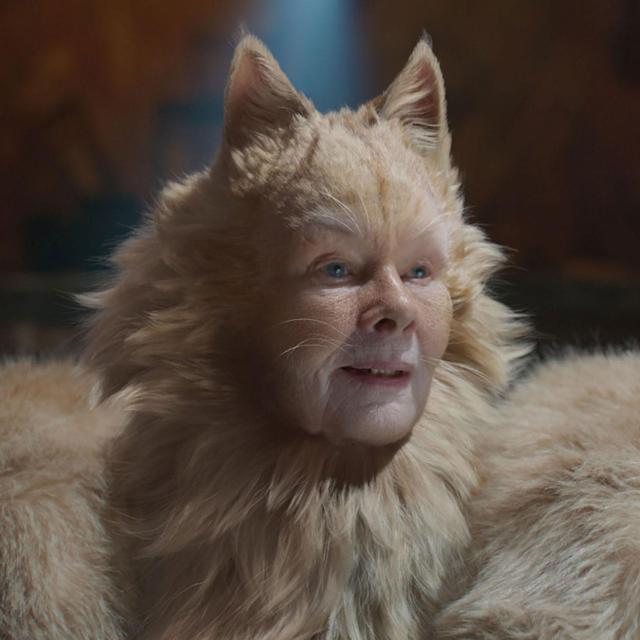cats: (1, 27, 639, 639)
